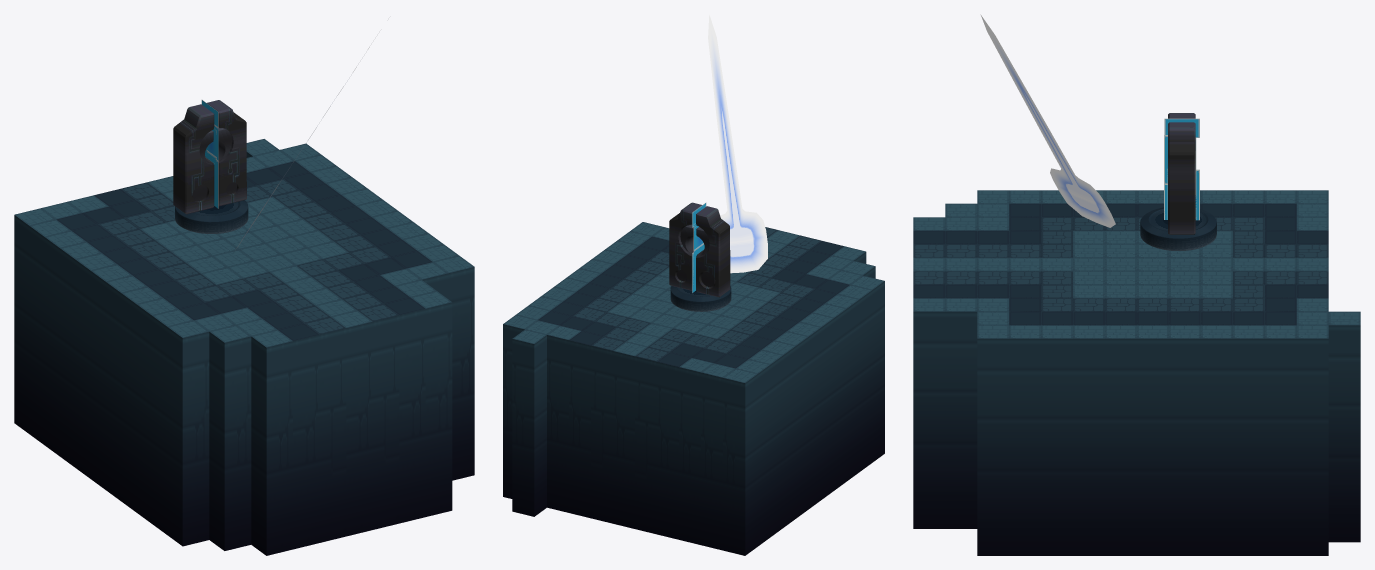
File: room_battle.fbx
The picture shows the model from 3 angles, left to right: view 1: azimuth 30°, elevation 25°; view 2: azimuth 150°, elevation 25°; view 3: azimuth 270°, elevation 25°; orthographic projection. The views are drawn at different scales.
Parts seen in each view (by area): view 1: base (×2), piece_target (1), piece_target (2); view 2: base (×2), fx_light_item, piece_target (1), piece_target (2); view 3: base (×2), piece_target (1), fx_light_item.
Boxes of the visible parts, box(x1,y1,x2,y2) form: base (×2): box(14, 139, 474, 555); piece_target (1): box(173, 100, 246, 214); piece_target (2): box(192, 127, 236, 201); base (×2): box(503, 222, 884, 555); fx_light_item: box(708, 15, 767, 273); piece_target (1): box(669, 202, 730, 297); piece_target (2): box(680, 224, 714, 286); base (×2): box(913, 190, 1360, 555); piece_target (1): box(1168, 113, 1195, 234); fx_light_item: box(980, 14, 1115, 227).
Bounding box in the file's own units: 11 × 17.28 × 14.
6 materials, 6 textured.
